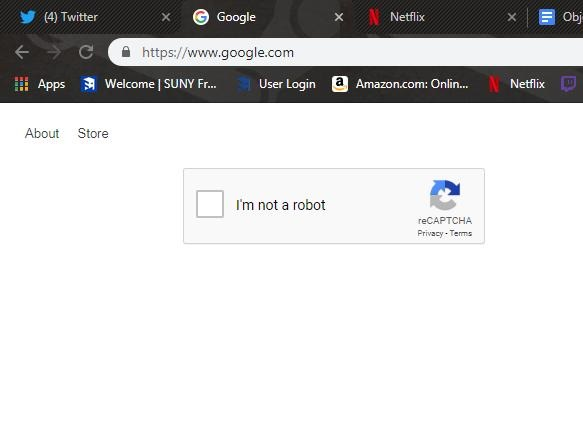captcha: (196, 190, 330, 218)
